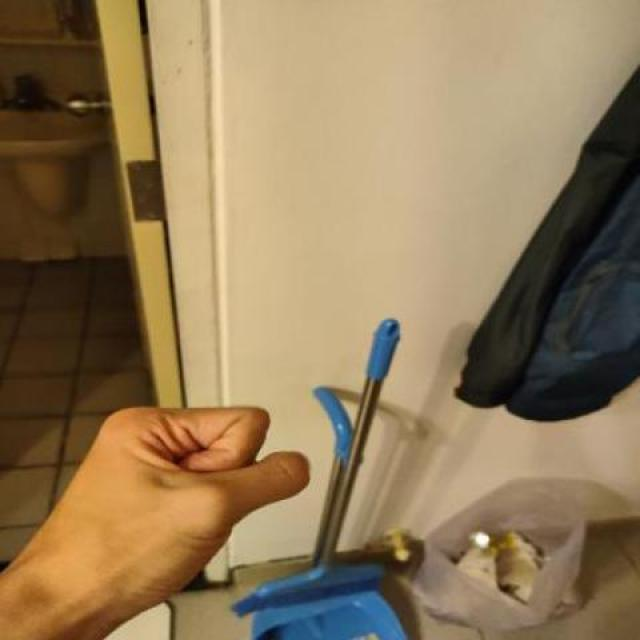fist: (0, 380, 312, 640)
